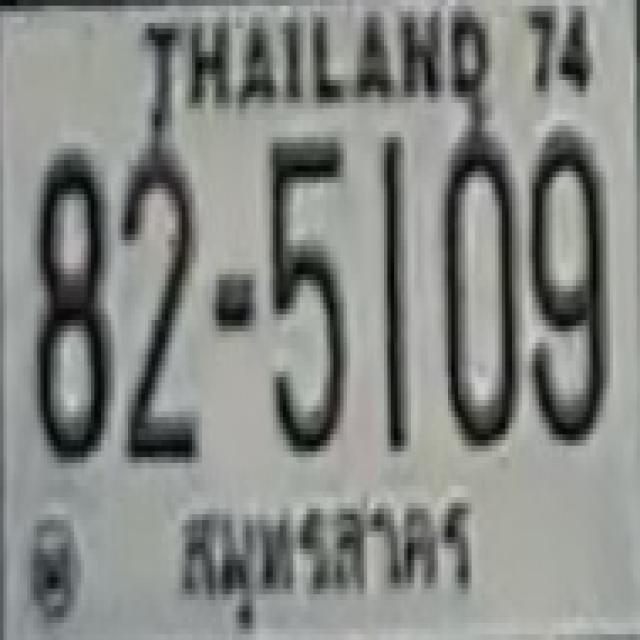0: (442, 126, 516, 440)
1: (377, 134, 404, 449)
2: (121, 140, 196, 460)
5: (266, 132, 344, 452)
8: (32, 146, 106, 460)
9: (527, 126, 605, 440)
SKN: (169, 488, 485, 626)
